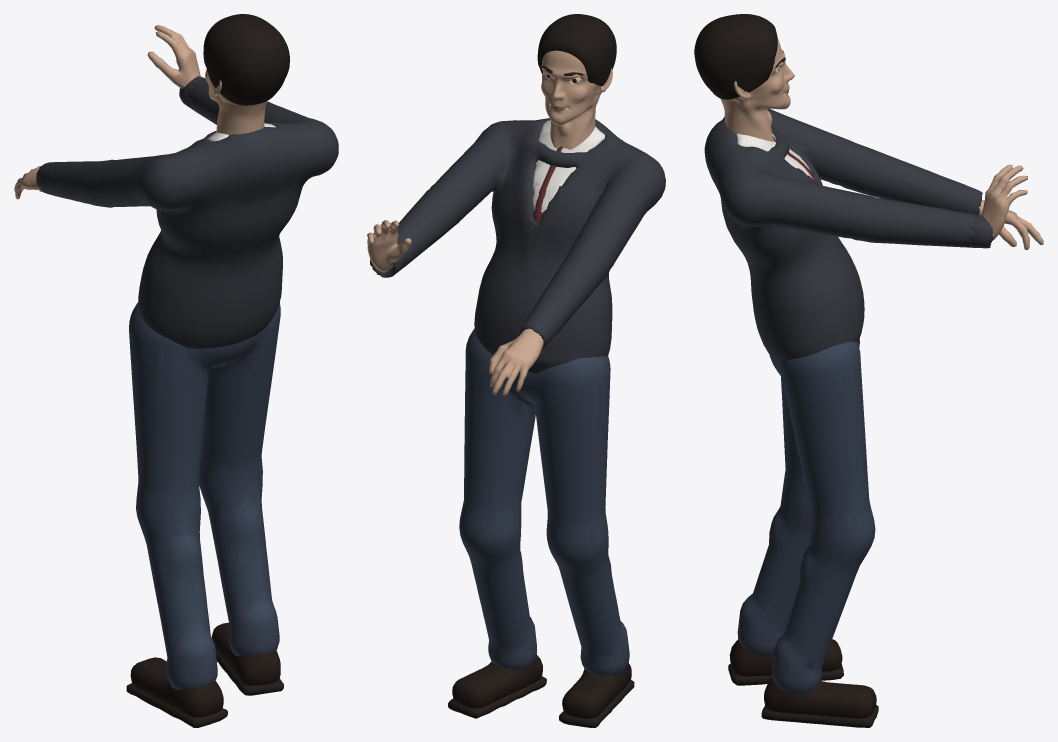
File: suit_bar.glb
3 renders of one model, left to right at view 1: azimuth 30°, elevation 25°; view 2: azimuth 150°, elevation 25°; view 3: azimuth 270°, elevation 25°, orthographic. The views are drawn at different scales.
Visible parts, largest first — view 1: suit_bar_body, suit_bar_head, suit_bar_hands; view 2: suit_bar_body, suit_bar_head, suit_bar_hands; view 3: suit_bar_body, suit_bar_head, suit_bar_hands.
Part boxes in pixels (x1,y1,x2,y2): suit_bar_body: (42, 78, 338, 727); suit_bar_head: (203, 14, 289, 135); suit_bar_hands: (14, 25, 204, 199); suit_bar_body: (397, 118, 665, 727); suit_bar_head: (537, 14, 616, 149); suit_bar_hands: (367, 220, 559, 395); suit_bar_body: (704, 108, 975, 727); suit_bar_head: (694, 14, 794, 141); suit_bar_hands: (951, 164, 1043, 249).
Size of the model in its own units: 0.5047 by 1.75 by 0.8155.
